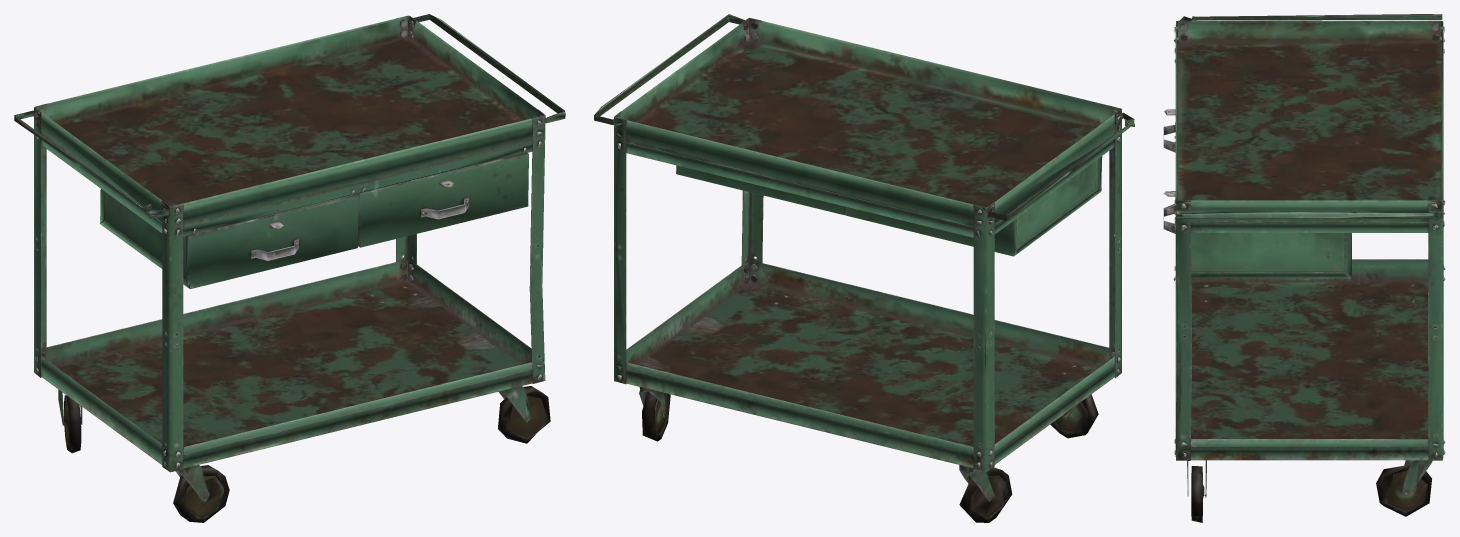
Rendered from toolCart.glb.
3 views of the same model, side by side, from view 1: azimuth 30°, elevation 25°; view 2: azimuth 150°, elevation 25°; view 3: azimuth 270°, elevation 25° (orthographic). The views are drawn at different scales.
Visible parts, largest first — view 1: tool_cart; view 2: tool_cart; view 3: tool_cart.
Part boxes in pixels (x1,y1,x2,y2): tool_cart: (14,14,565,522); tool_cart: (594,14,1134,522); tool_cart: (1163,14,1445,522).
Bounding box in the file's own units: 1.27 × 0.962 × 0.7521.
Materials: 1 (1 with a texture image).
